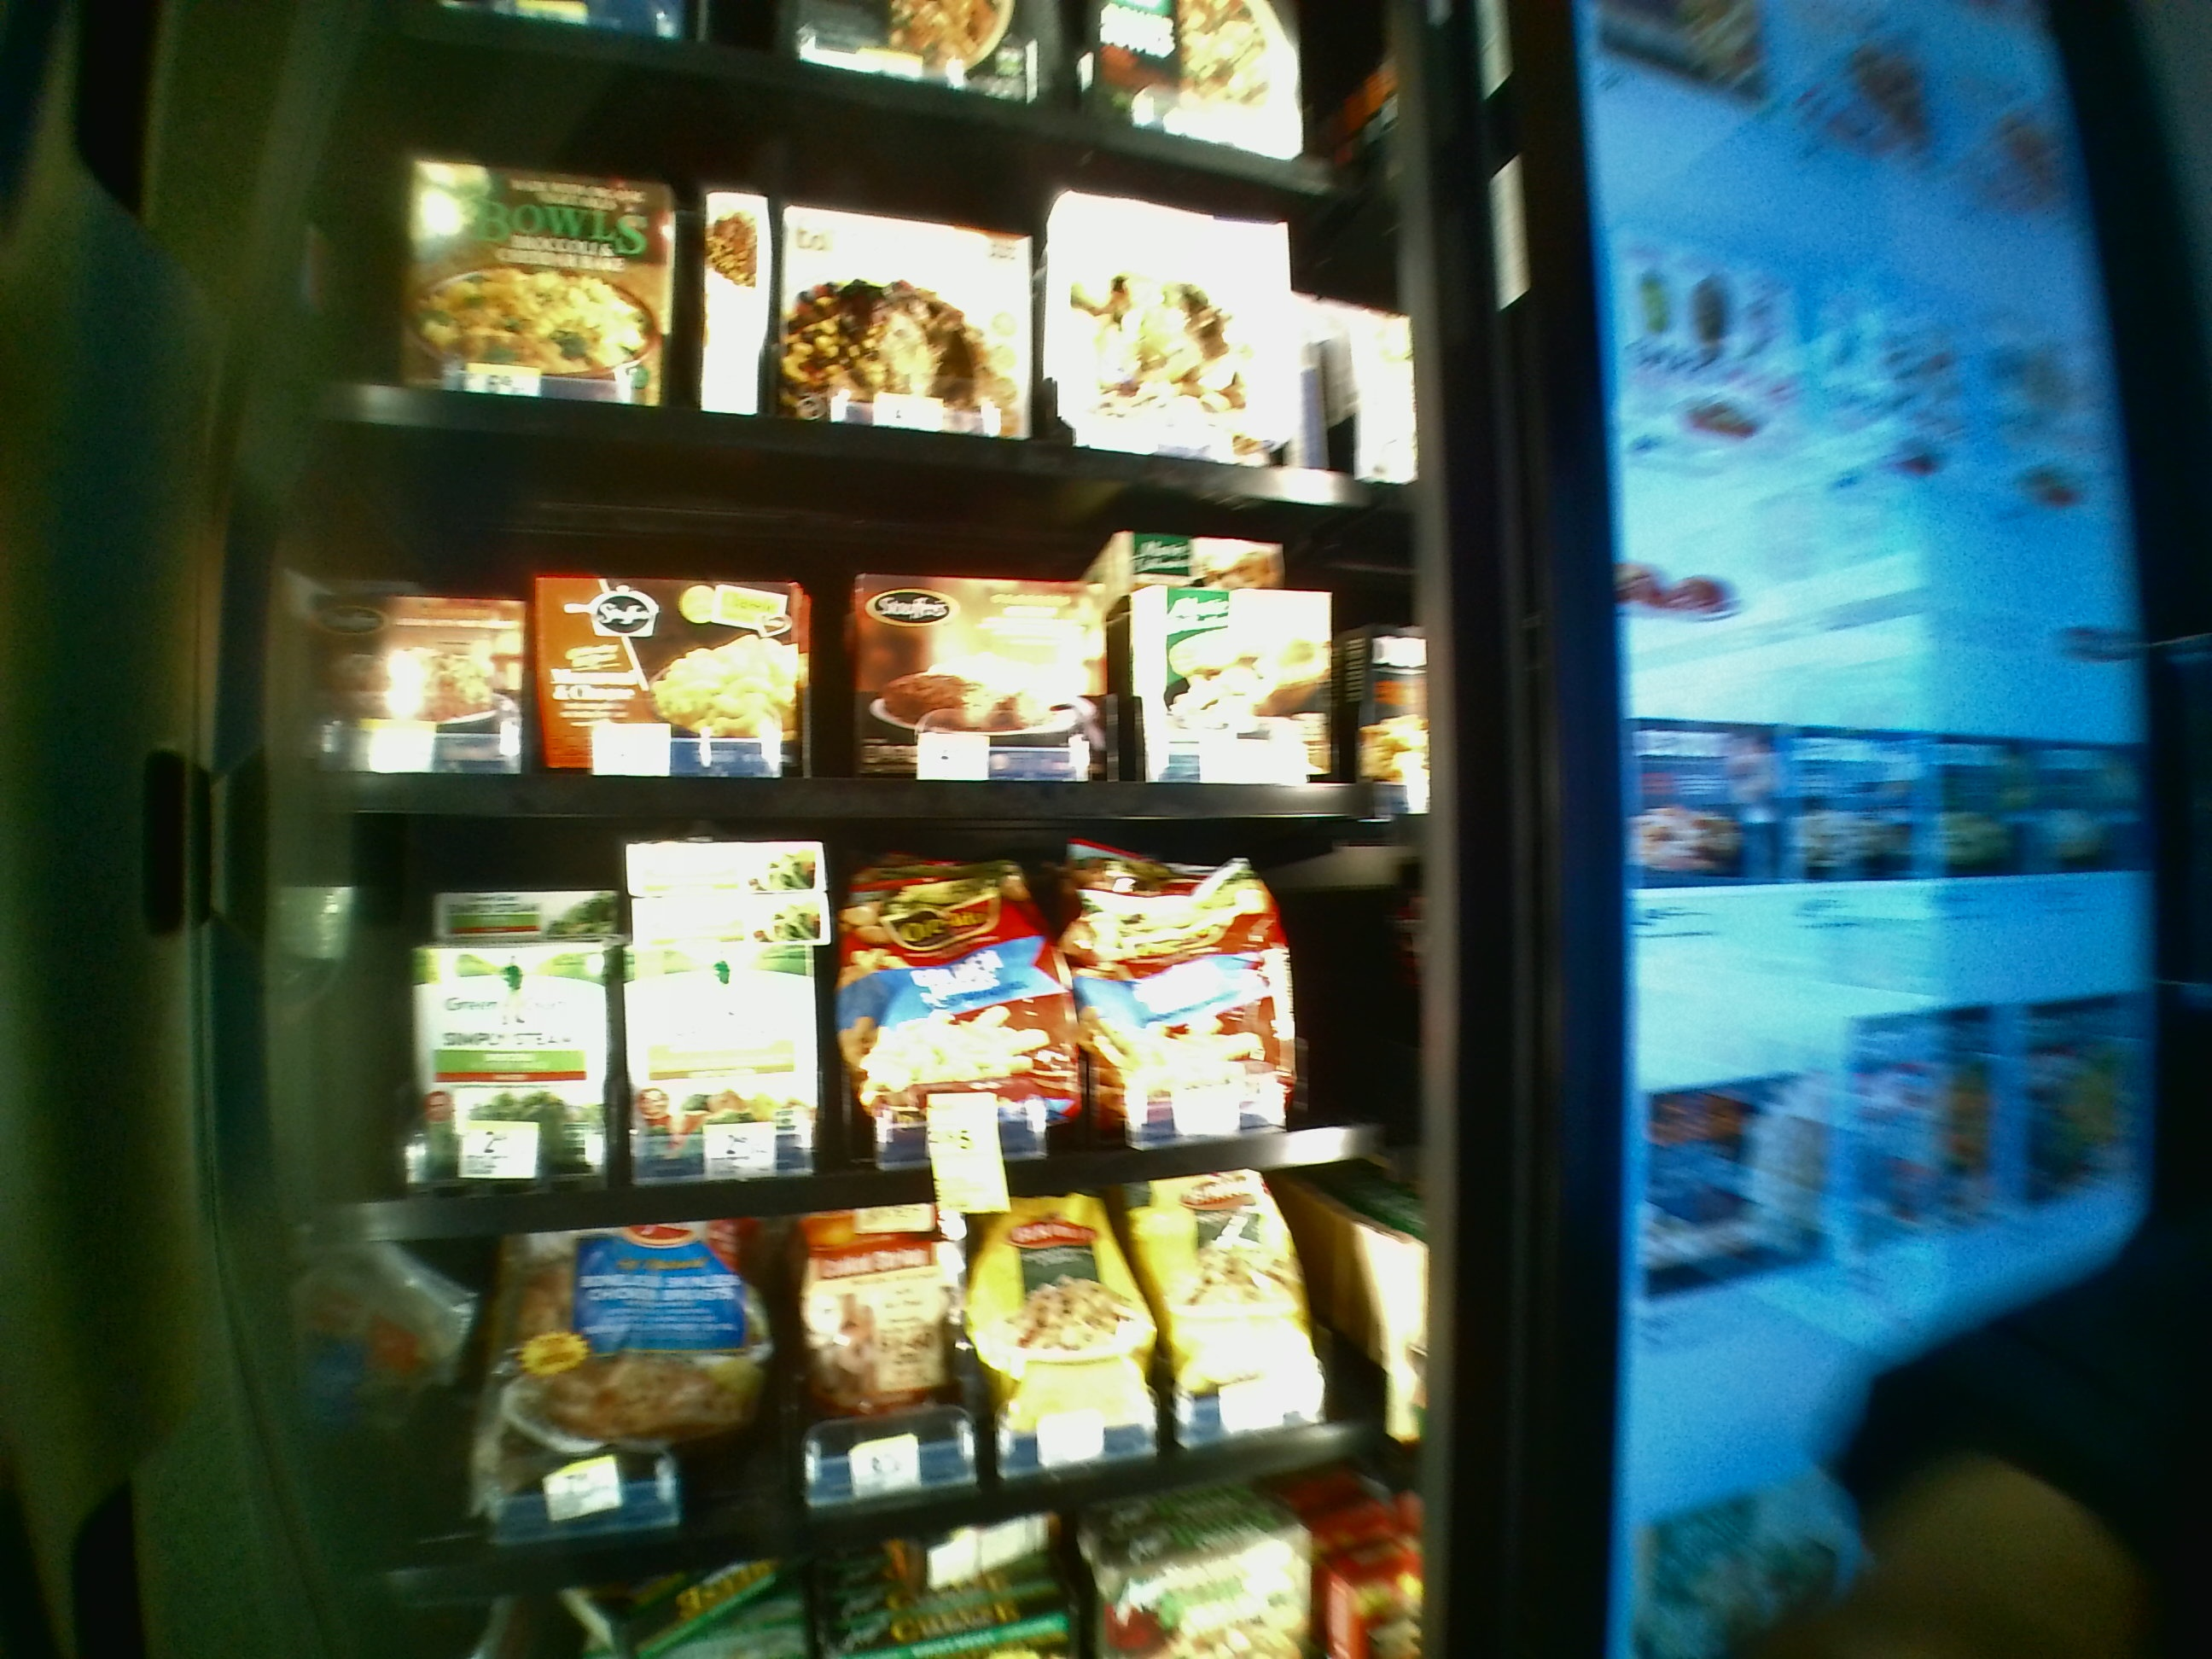shelf: (298, 831, 1418, 1241), (296, 430, 1407, 823)
